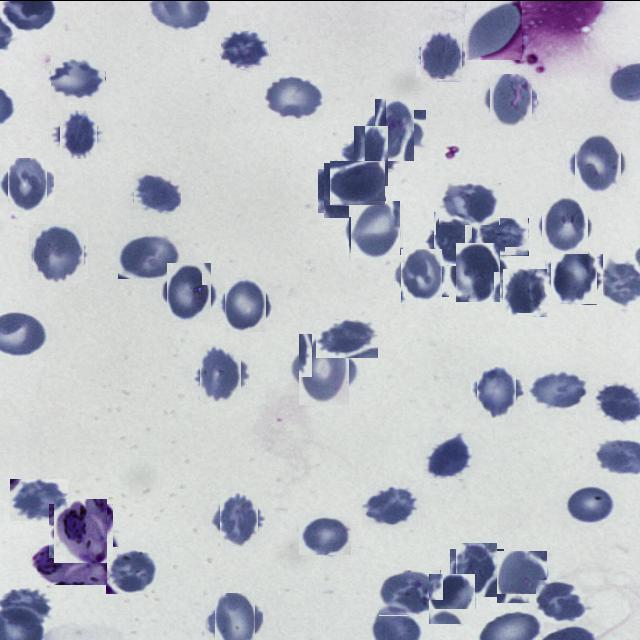red blood cell: (294, 339, 354, 399), (465, 0, 522, 59), (30, 224, 86, 280), (571, 136, 625, 190), (347, 202, 401, 256), (118, 233, 182, 278), (379, 569, 441, 615), (263, 74, 324, 120), (163, 266, 216, 318), (452, 245, 504, 298), (438, 182, 501, 225), (548, 250, 600, 302), (496, 550, 548, 602), (539, 199, 591, 251), (362, 484, 420, 528), (106, 546, 160, 593), (330, 160, 386, 205), (196, 347, 246, 397), (321, 165, 371, 215), (370, 104, 420, 154), (528, 370, 589, 410), (10, 478, 68, 520), (51, 56, 106, 100), (222, 278, 270, 328), (316, 319, 378, 357), (428, 574, 476, 623), (453, 545, 501, 593), (398, 251, 446, 299), (487, 75, 534, 123), (423, 432, 472, 478), (418, 32, 466, 78), (348, 130, 394, 178), (536, 579, 587, 622), (474, 366, 520, 413), (429, 214, 476, 260), (4, 160, 50, 207), (216, 496, 262, 542), (502, 268, 548, 314), (134, 170, 181, 214), (212, 596, 259, 640), (56, 111, 100, 156), (299, 516, 351, 554), (565, 483, 615, 522), (220, 30, 270, 69), (478, 217, 529, 255)
trophozoite: (32, 533, 107, 584), (51, 500, 110, 560)
